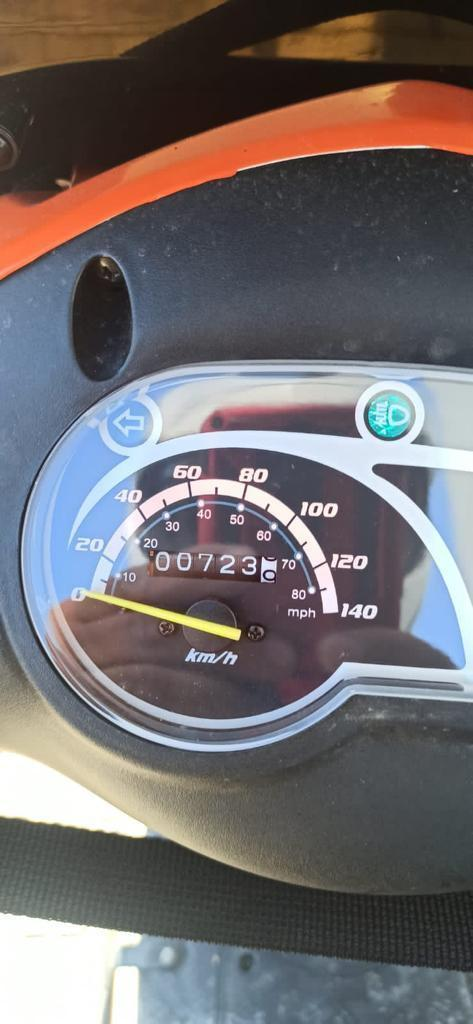0: (154, 550, 170, 571), (176, 551, 191, 571)
2: (219, 554, 235, 574)
3: (241, 555, 257, 575)
7: (198, 552, 213, 571)
9: (262, 569, 276, 585)
odometer: (145, 547, 279, 585)
